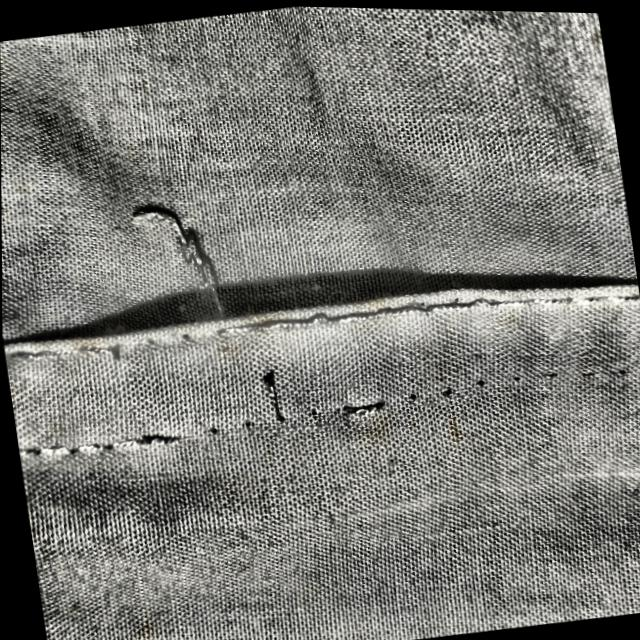Stitch: (114, 168, 278, 368), (244, 357, 296, 443)
